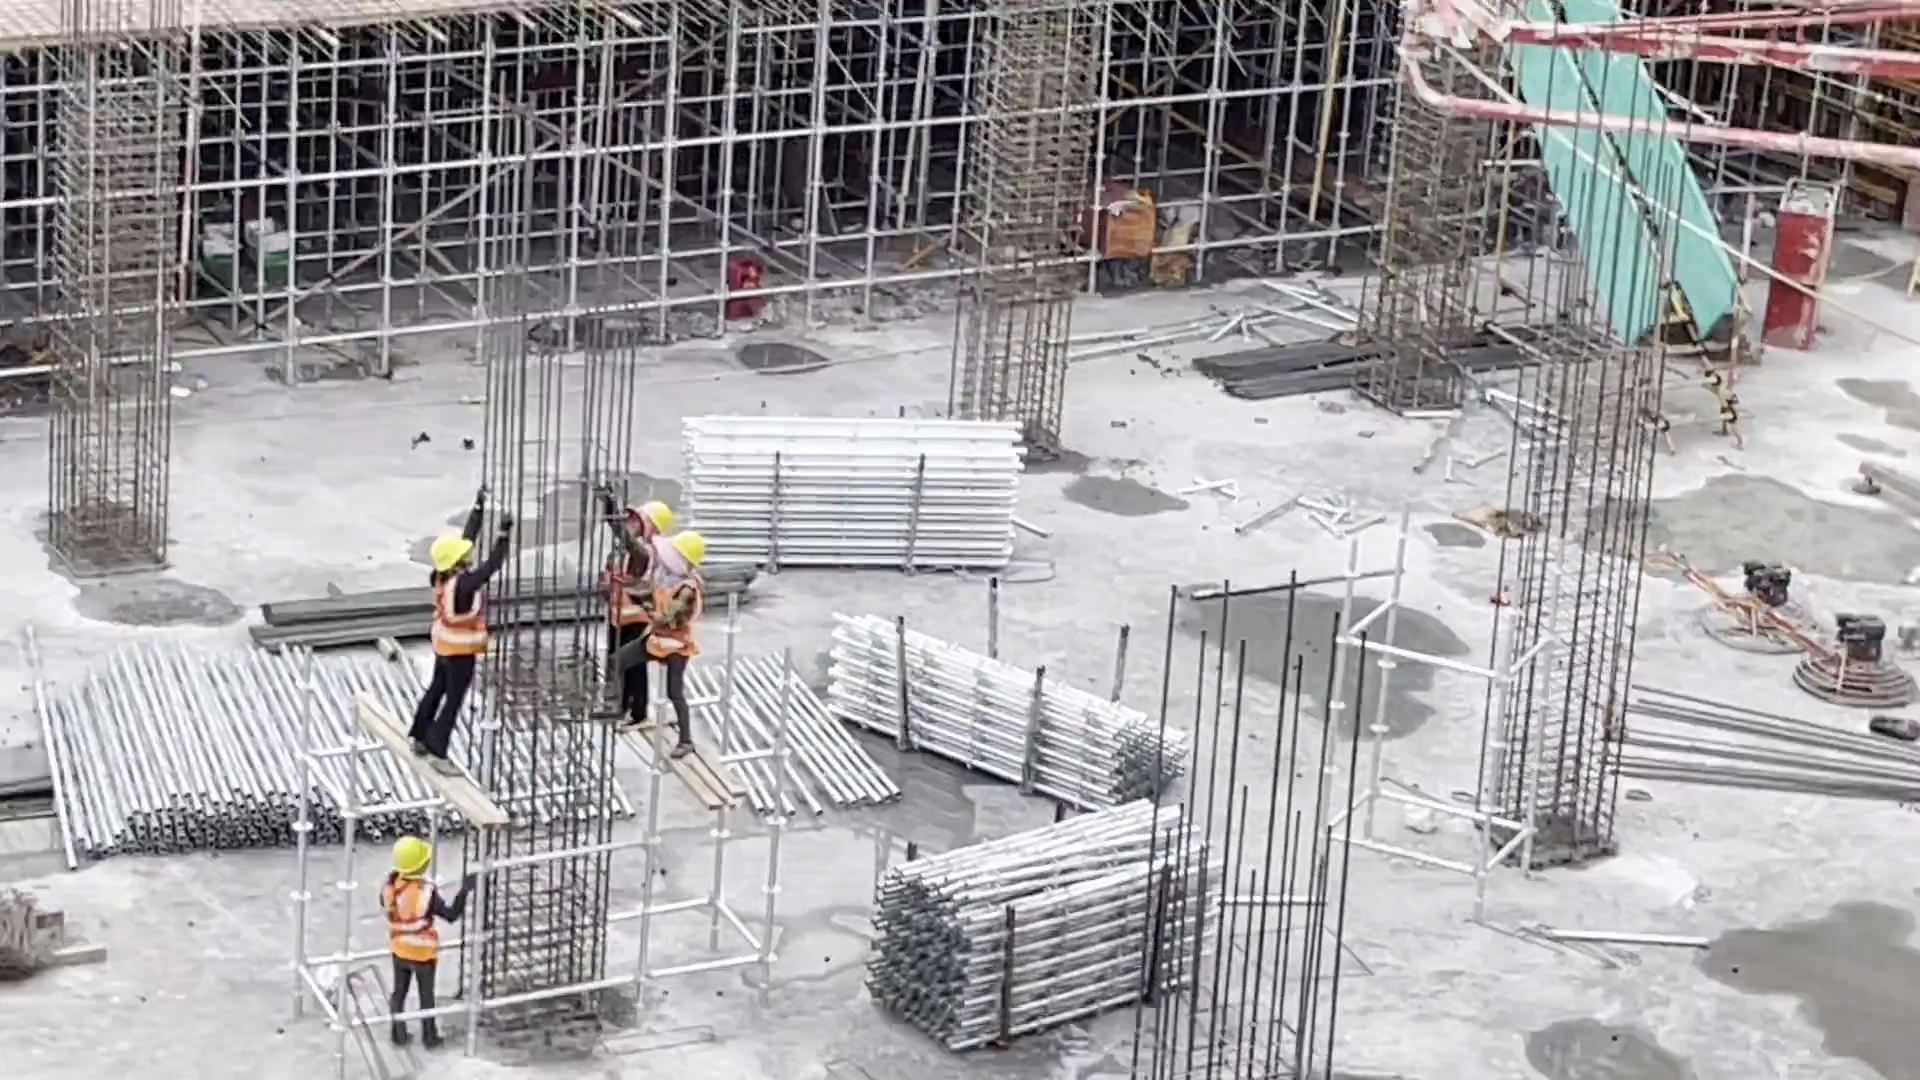helmet: (663, 531, 699, 580), (425, 535, 467, 569), (392, 838, 429, 871), (640, 497, 671, 531)
person: (411, 518, 492, 775), (378, 831, 449, 1053), (595, 500, 656, 727), (645, 530, 700, 764)
rebar: (258, 569, 766, 667), (1191, 316, 1569, 411)
scaffold: (47, 634, 506, 849), (852, 808, 1237, 1030), (819, 598, 1164, 805), (665, 400, 1050, 573), (667, 402, 1052, 575)
vest: (426, 574, 489, 658), (382, 879, 437, 968), (607, 531, 652, 630), (656, 571, 699, 664)
